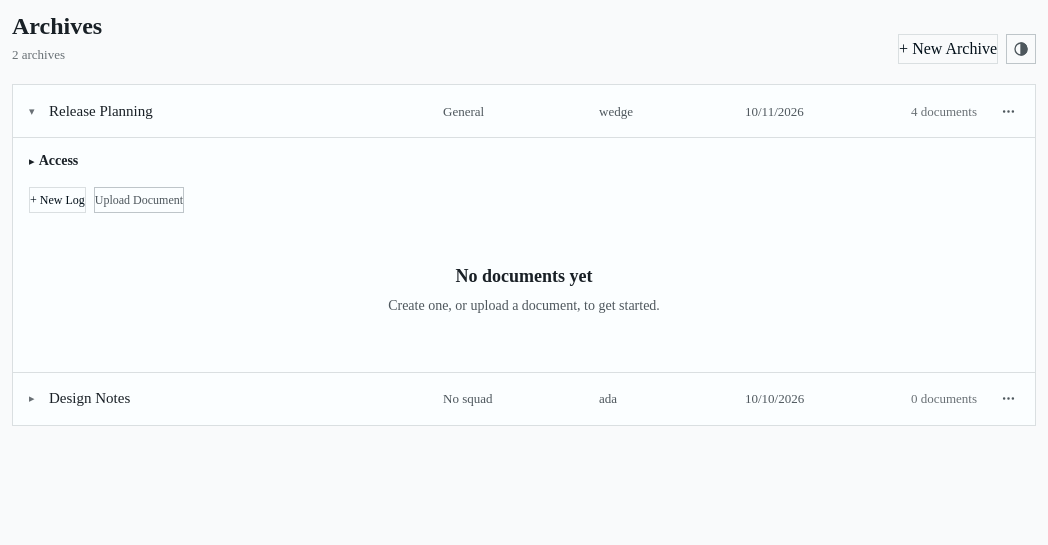
Test: the archive list (X9) › omits Go to squad for an archive with no squad
Expected: the text "Design Notes" is shown, [49,387,130,410]
Click the button named "More actions for ": (1008, 399) [993,384,1023,414]
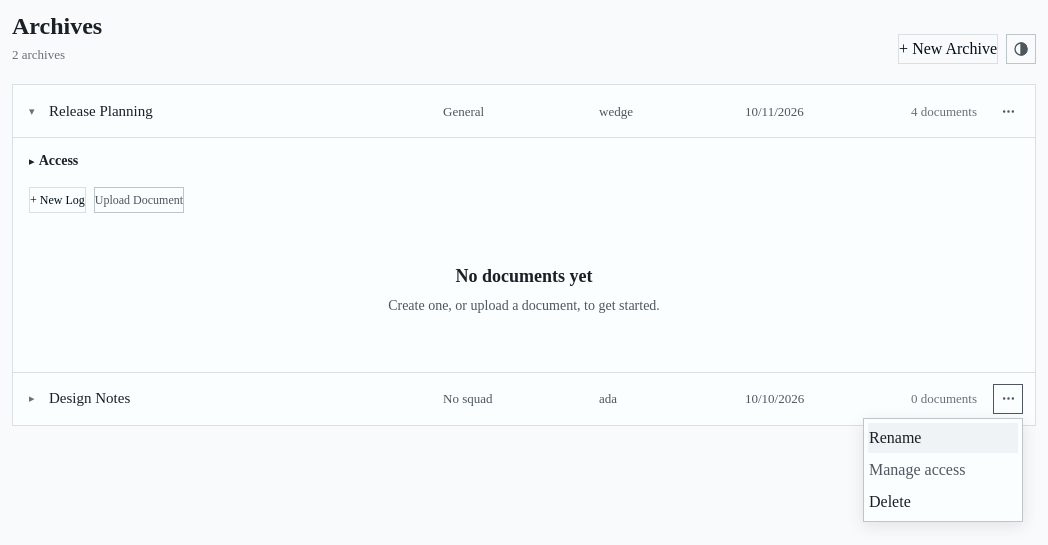
Expected: the menu items read "Rename", "Manage access", "Delete", in this order, [868,423,1018,453]; [868,455,1018,485]; [868,487,1018,517]
